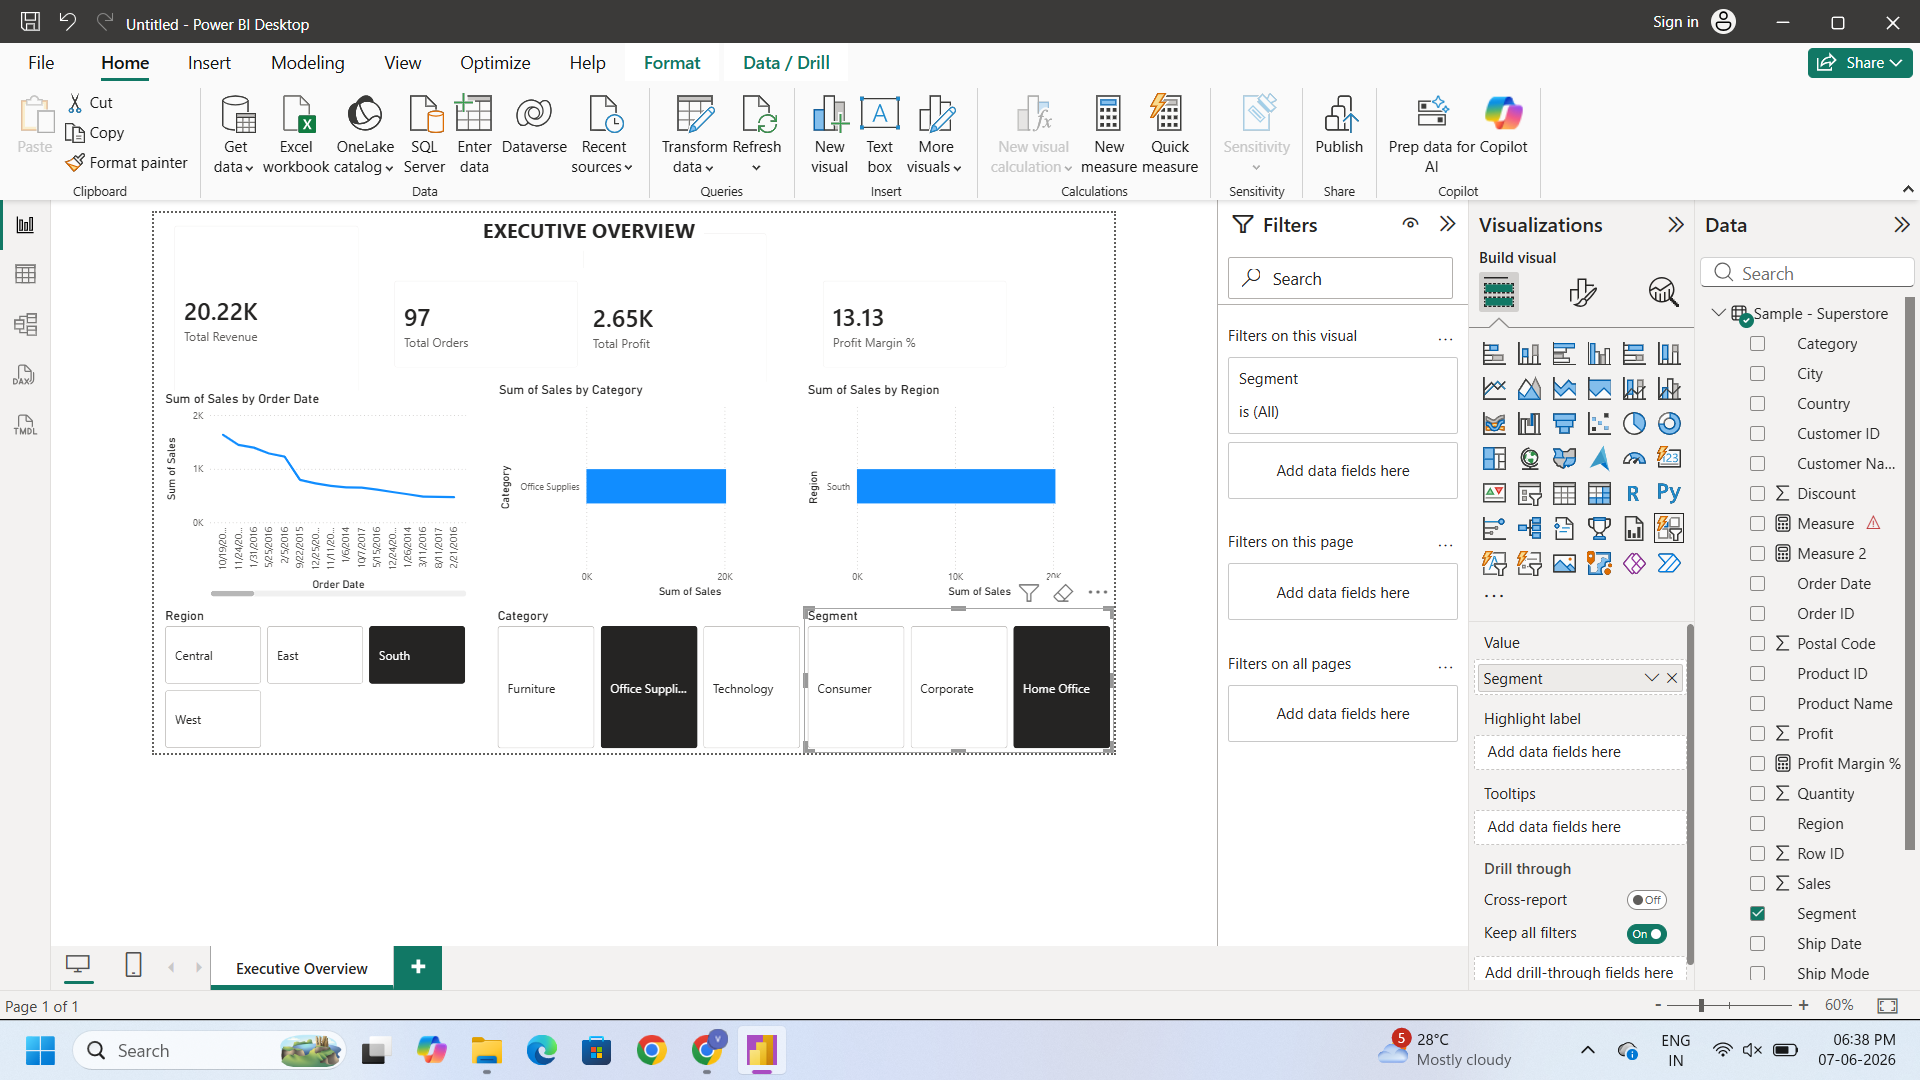

The page's visual inventory and layout, read from the dashboard file:
{"tool":"powerbi","page":{"name":"Executive Overview","canvas":[1280,720],"ordinal":0},"visuals":[{"type":"cardVisual","fields":{"Data":["Sample - Superstore.Total Revenue"]},"box":[10,0,280,280],"z":0},{"type":"cardVisual","fields":{"Data":["Sample - Superstore.Total Profit"]},"box":[555.7,9.6,279.9,279.9],"z":1},{"type":"cardVisual","fields":{"Data":["Sample - Superstore.Total Orders"]},"box":[303.3,74.1,279.9,150.9],"z":2},{"type":"cardVisual","fields":{"Data":["Sample - Superstore.Profit Margin %"]},"box":[875.5,74.1,279.9,150.9],"z":3},{"type":"lineChart","fields":{"Category":["Sample - Superstore.Order Date"],"Y":["Sum(Sample - Superstore.Sales)"]},"box":[9.6,237.4,411.7,279.9],"z":4},{"type":"clusteredBarChart","fields":{"Category":["Sample - Superstore.Category"],"Y":["Sum(Sample - Superstore.Sales)"]},"box":[454.2,225,413,292.3],"z":5},{"type":"clusteredBarChart","fields":{"Category":["Sample - Superstore.Region"],"Y":["Sum(Sample - Superstore.Sales)"]},"box":[867.2,225,413,292.3],"z":6},{"type":"advancedSlicerVisual","fields":{"Values":["Sample - Superstore.Region"]},"box":[10,527,412,193],"z":7},{"type":"advancedSlicerVisual","fields":{"Values":["Sample - Superstore.Category"]},"box":[454,527,413,193],"z":8},{"type":"advancedSlicerVisual","fields":{"Values":["Sample - Superstore.Segment"]},"box":[867,527,413,193],"z":9},{"type":"textbox","box":[433.3,0,300,50],"z":11}]}

Visuals, with their boxes on the page's 1280x720 design canvas (x1, y1, x2, y2). These are canvas units, not pixel positions in the 1920x1080 screenshot, which may show the page scaled, cropped or inside an application window:
cardVisual - Sample - Superstore.Total Revenue: 10/0/290/280
cardVisual - Sample - Superstore.Total Profit: 556/10/836/290
cardVisual - Sample - Superstore.Total Orders: 303/74/583/225
cardVisual - Sample - Superstore.Profit Margin %: 876/74/1155/225
lineChart - Sample - Superstore.Order Date x Sum(Sample - Superstore.Sales): 10/237/421/517
clusteredBarChart - Sample - Superstore.Category x Sum(Sample - Superstore.Sales): 454/225/867/517
clusteredBarChart - Sample - Superstore.Region x Sum(Sample - Superstore.Sales): 867/225/1280/517
advancedSlicerVisual - Sample - Superstore.Region: 10/527/422/720
advancedSlicerVisual - Sample - Superstore.Category: 454/527/867/720
advancedSlicerVisual - Sample - Superstore.Segment: 867/527/1280/720
textbox: 433/0/733/50
